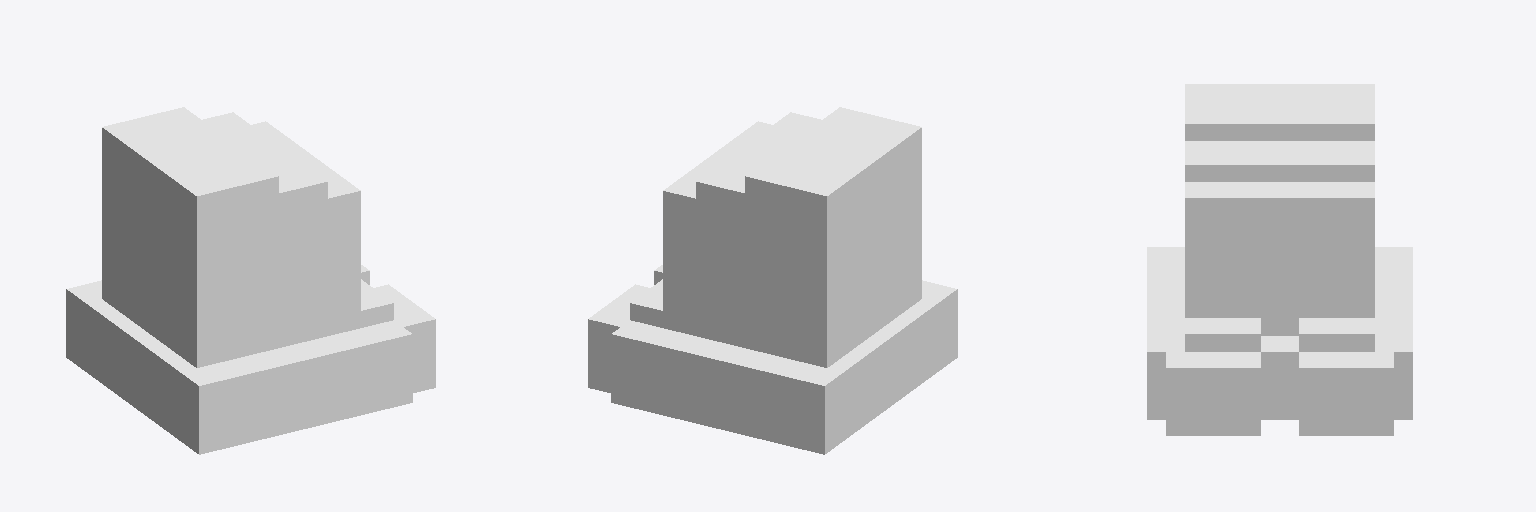
File: computer-gay.obj
3 views of the same model, side by side, from view 1: azimuth 30°, elevation 25°; view 2: azimuth 150°, elevation 25°; view 3: azimuth 270°, elevation 25° (orthographic).
Parts seen in each view (by area): view 1: object 1; view 2: object 1; view 3: object 1.
Part boxes in pixels (x1,y1,x2,y2): object 1: (66,107,435,454); object 1: (588,107,957,454); object 1: (1147,84,1412,435).
Size of the model in its own units: 1.5 by 1.4 by 1.4.